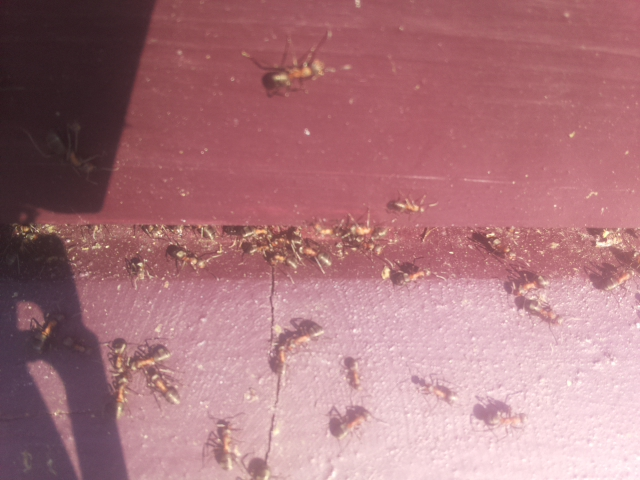ant: (40, 113, 103, 188), (261, 52, 328, 97), (25, 306, 69, 359), (322, 402, 373, 445), (207, 416, 241, 473), (143, 364, 182, 410), (159, 241, 211, 275), (407, 373, 459, 407), (516, 295, 564, 331), (126, 343, 177, 374), (8, 211, 44, 246), (339, 350, 363, 394), (288, 323, 327, 350), (385, 194, 427, 218), (293, 242, 334, 266), (104, 336, 129, 372), (240, 454, 274, 480), (393, 264, 433, 286), (601, 267, 635, 290), (265, 249, 299, 268), (61, 336, 88, 354)
